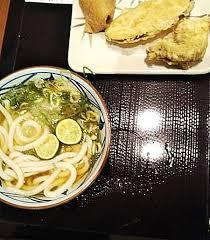bukkake: (2, 70, 105, 199)
satumaimo: (109, 1, 192, 46)
